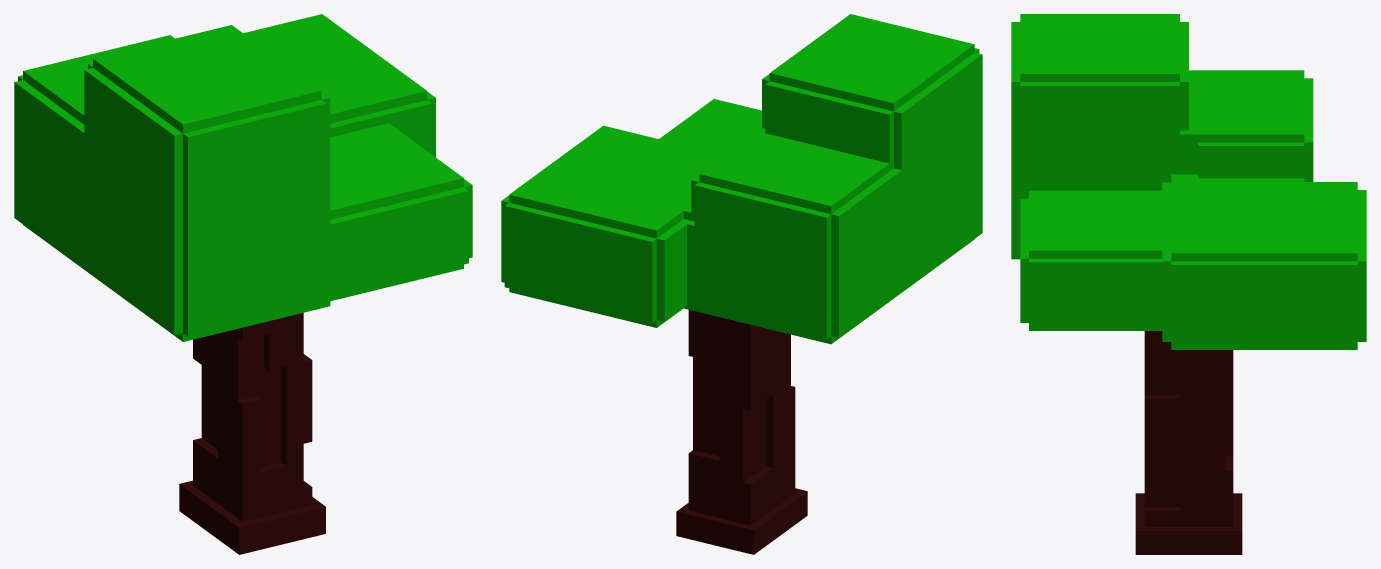
File: Tree_1_4.fbx
3 renders of one model, left to right at view 1: azimuth 30°, elevation 25°; view 2: azimuth 150°, elevation 25°; view 3: azimuth 270°, elevation 25°, orthographic. The views are drawn at different scales.
Parts seen in each view (by area): view 1: Tree_1_4; view 2: Tree_1_4; view 3: Tree_1_4.
Part boxes in pixels (x1,y1,x2,y2): Tree_1_4: (14,14,472,554); Tree_1_4: (501,14,982,554); Tree_1_4: (1011,14,1366,554).
Bounding box in the file's own units: 4000 × 5600 × 4000.
